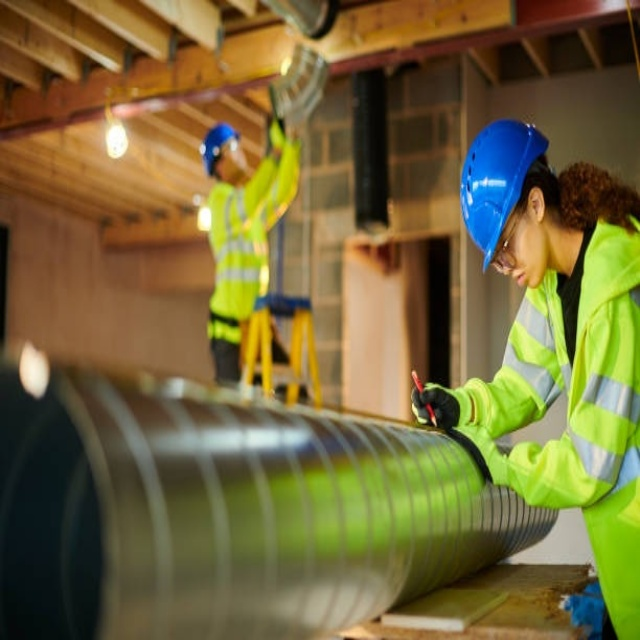Gafas: (487, 193, 532, 276)
Guantes: (411, 383, 460, 430)
Sin_mascara: (508, 267, 538, 295)
